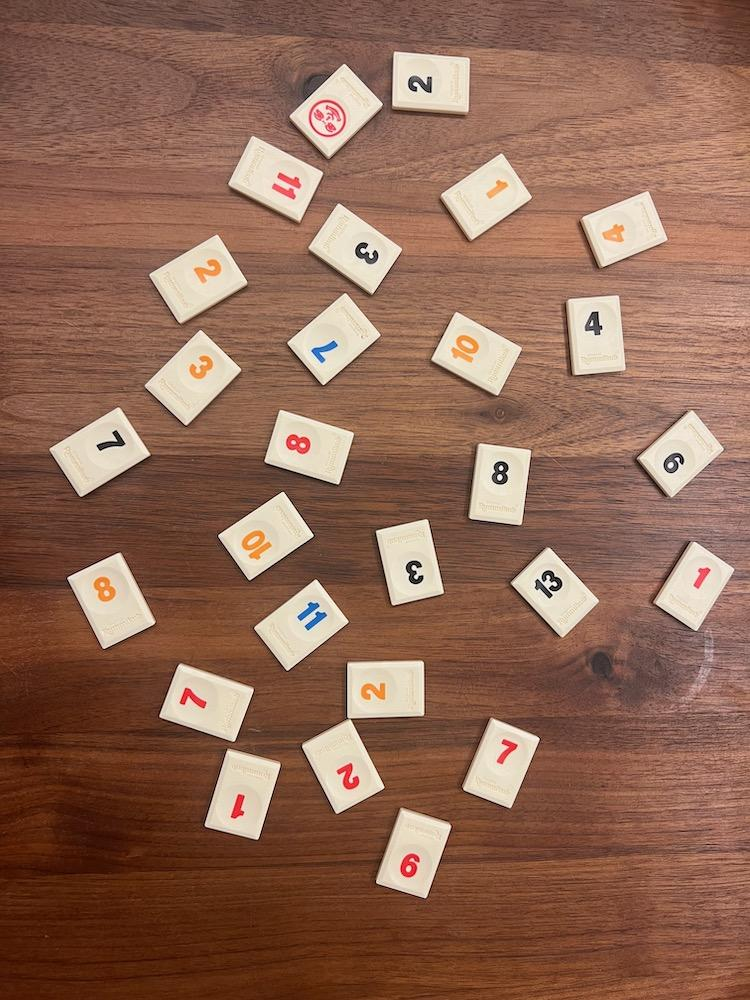black_13: (512, 547, 598, 637)
black_2: (394, 53, 471, 115)
black_3: (309, 205, 400, 293), (377, 521, 442, 605)
black_4: (566, 295, 624, 374)
black_7: (51, 408, 150, 496)
black_8: (469, 443, 531, 525)
black_9: (637, 410, 723, 496)
blue_11: (256, 580, 348, 670)
blue_7: (289, 295, 381, 385)
joker: (291, 64, 383, 158)
orange_1: (441, 154, 531, 240)
orange_10: (220, 492, 314, 580), (434, 312, 521, 395)
orange_2: (150, 236, 246, 322), (348, 660, 424, 719)
orange_3: (145, 330, 240, 426)
orange_4: (582, 191, 666, 268)
orange_8: (69, 553, 154, 648)
red_1: (654, 541, 734, 631), (205, 750, 281, 840)
red_11: (229, 137, 322, 223)
red_2: (303, 719, 385, 812)
red_7: (161, 664, 254, 742), (463, 719, 539, 809)
red_8: (264, 410, 354, 484)
red_9: (377, 809, 451, 898)
